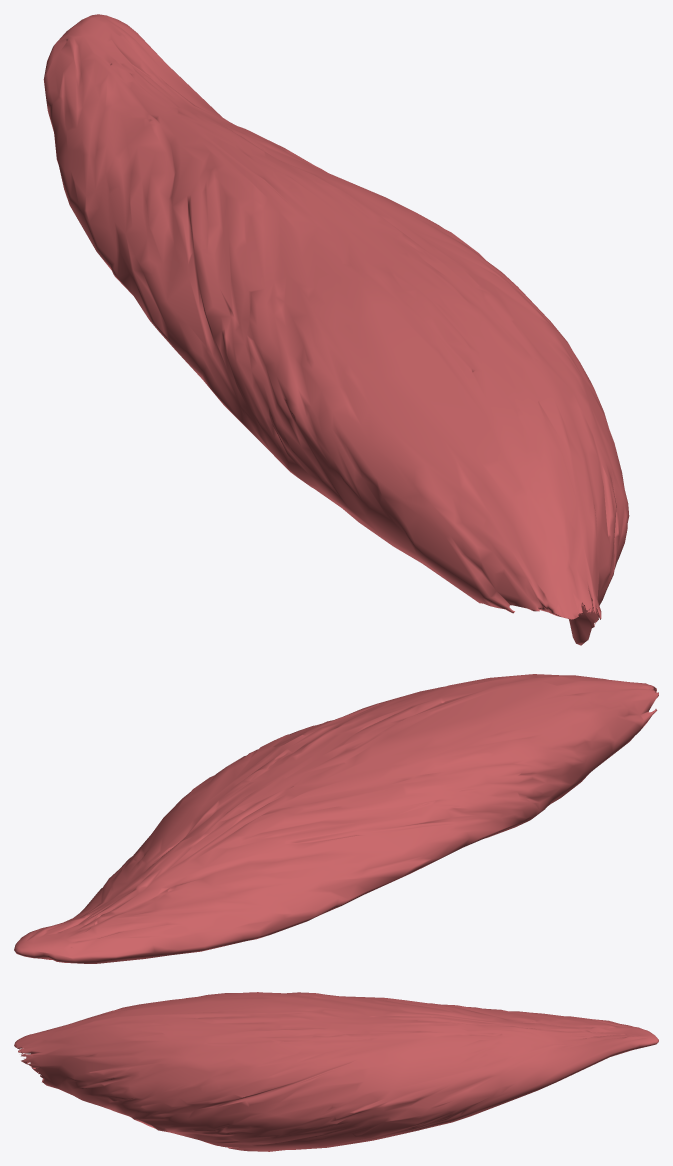
3 views of the same model, one above another, from view 1: azimuth 30°, elevation 25°; view 2: azimuth 150°, elevation 25°; view 3: azimuth 270°, elevation 25° (orthographic). The views are drawn at different scales.
Parts seen in each view (by area): view 1: 右侧比目鱼肌; view 2: 右侧比目鱼肌; view 3: 右侧比目鱼肌.
Part boxes in pixels (box(x1,y1,x2,y2)): 右侧比目鱼肌: box(43, 14, 629, 645); 右侧比目鱼肌: box(14, 674, 658, 963); 右侧比目鱼肌: box(14, 992, 658, 1151).
Size of the model in its own units: 0.1254 by 0.0814 by 0.4063.
